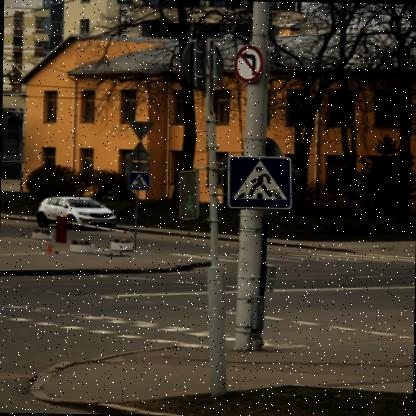crosswalk: (224, 154, 291, 208), (126, 171, 148, 188)
trafficlight: (173, 166, 199, 218)
